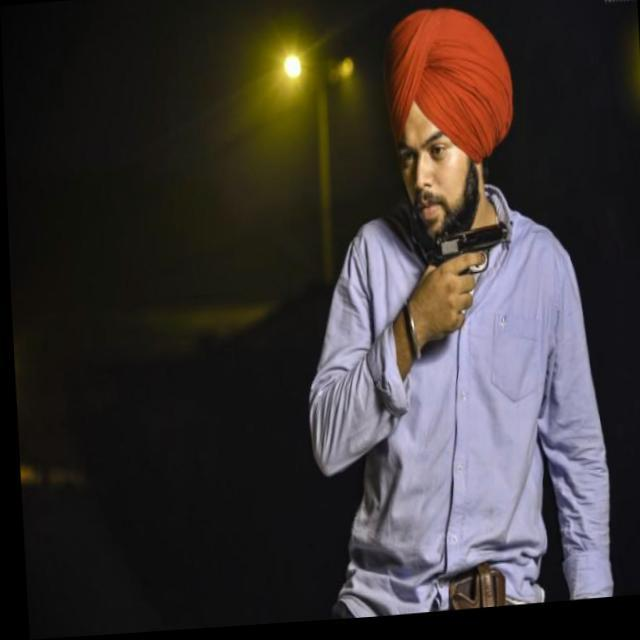weapon: (420, 222, 512, 339)
